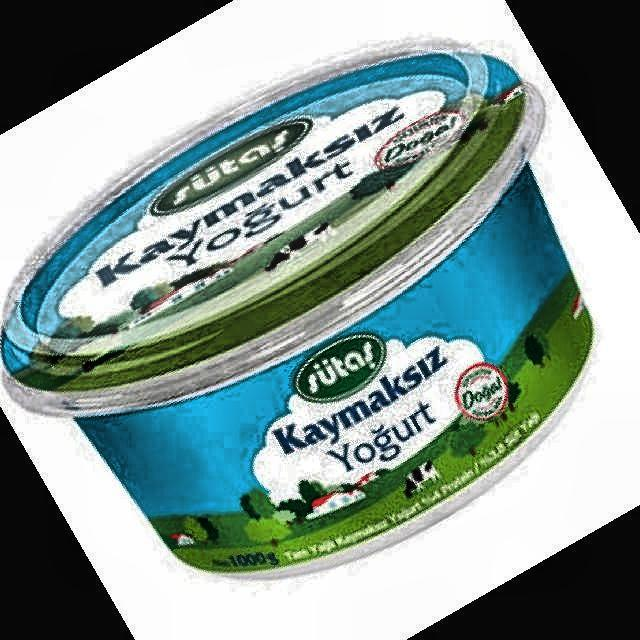plastic: (1, 52, 592, 576)
